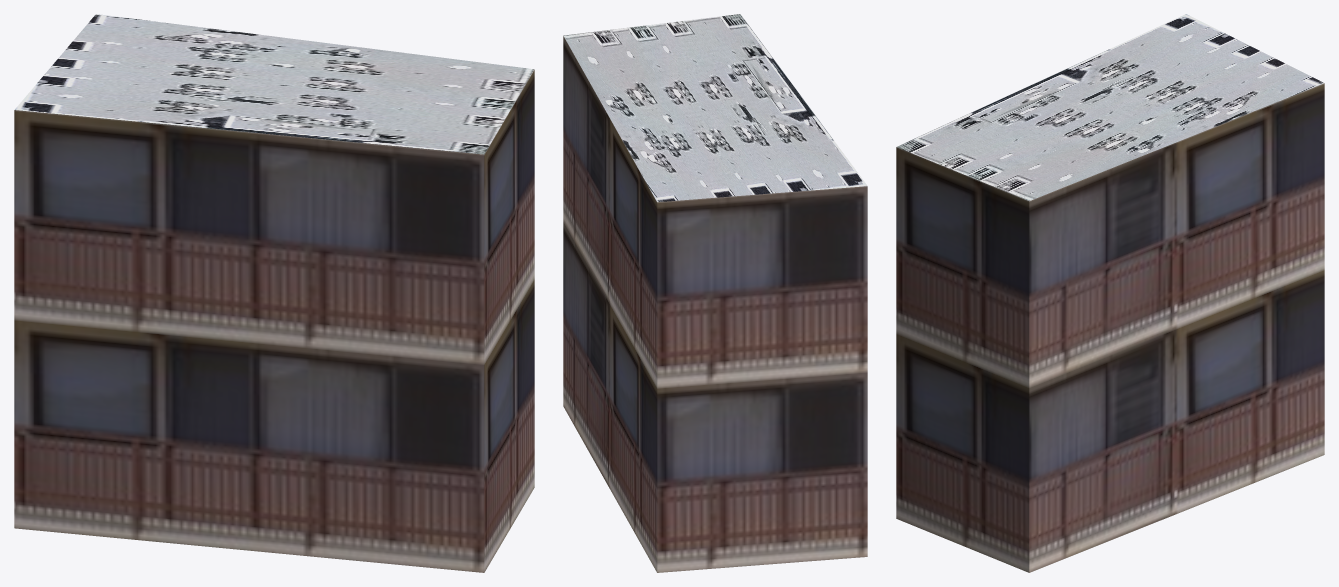
The model's file is ResTex__4144.fbx.
3 renders of one model, left to right at view 1: azimuth 30°, elevation 25°; view 2: azimuth 150°, elevation 25°; view 3: azimuth 270°, elevation 25°, orthographic. The views are drawn at different scales.
Visible parts, largest first — view 1: CityEngineMaterial_6_m, CityEngineMaterial_m; view 2: CityEngineMaterial_6_m, CityEngineMaterial_m; view 3: CityEngineMaterial_6_m, CityEngineMaterial_m.
Boxes of the visible parts, bbox=[...] form: CityEngineMaterial_6_m: bbox=[14, 69, 534, 572]; CityEngineMaterial_m: bbox=[15, 14, 534, 154]; CityEngineMaterial_6_m: bbox=[563, 36, 867, 572]; CityEngineMaterial_m: bbox=[563, 14, 867, 202]; CityEngineMaterial_6_m: bbox=[896, 83, 1324, 572]; CityEngineMaterial_m: bbox=[897, 14, 1324, 201].
Bounding box in the file's own units: 6.48 × 6 × 6.27.
2 materials, 2 textured.
